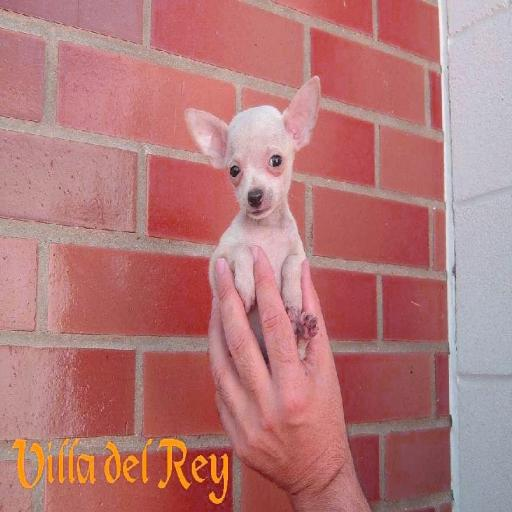dog_face: (183, 78, 323, 219)
